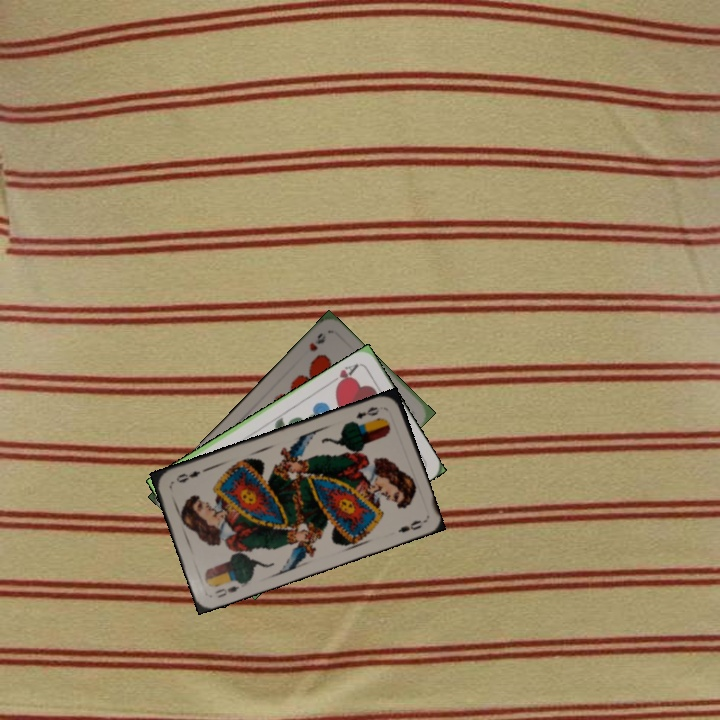EO: (211, 582, 242, 600), (352, 403, 382, 421)
H9: (305, 329, 328, 354)
HA: (325, 359, 361, 390)
